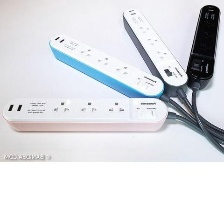three_eye_plug: (47, 32, 166, 106), (0, 95, 171, 137), (121, 6, 189, 99), (185, 1, 223, 94)
